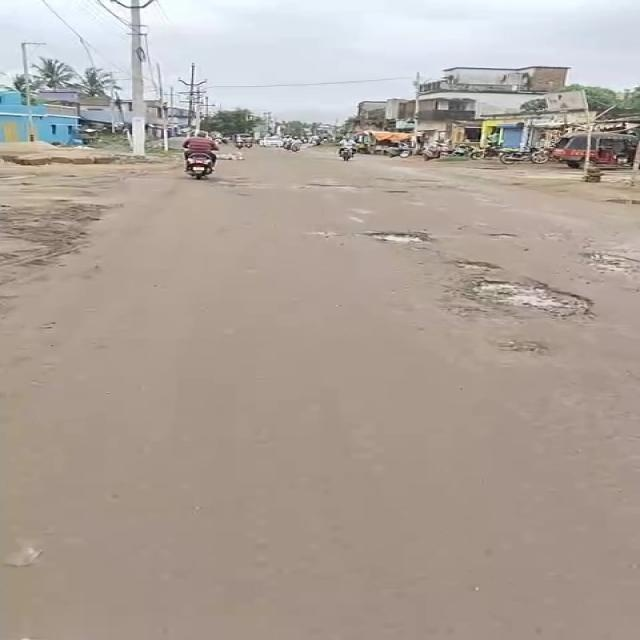pothole: (457, 279, 598, 317), (577, 247, 638, 273), (360, 228, 432, 246), (442, 256, 506, 274), (488, 341, 542, 358), (378, 173, 448, 184), (215, 175, 254, 191), (302, 179, 358, 189), (478, 230, 520, 242), (535, 227, 568, 242), (305, 228, 342, 238), (376, 187, 409, 195)
